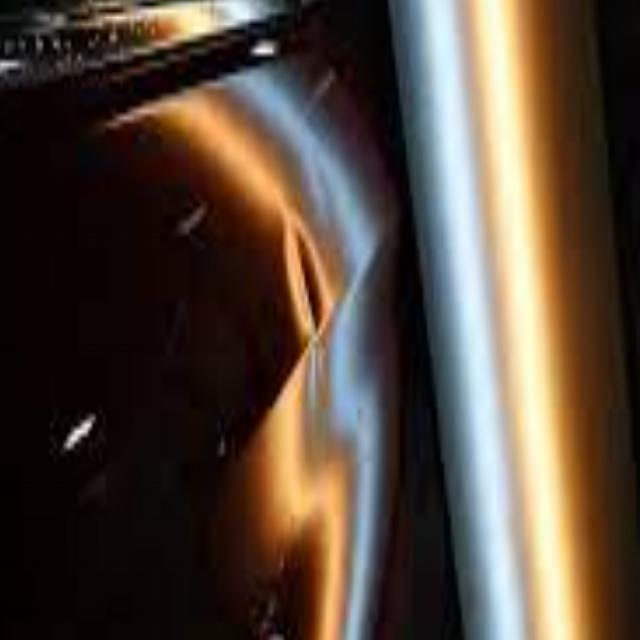dents: (274, 193, 343, 344)
